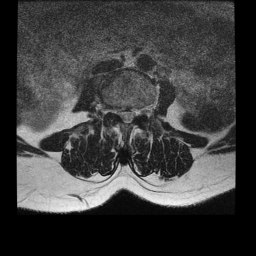CCS_severe_stenosis: (124, 105, 130, 127)
LFS_normal: (136, 103, 143, 120)
LLS_stenosis: (130, 105, 136, 123)
RFS_normal: (111, 103, 118, 121)
RLS_stenosis: (118, 105, 124, 123)
